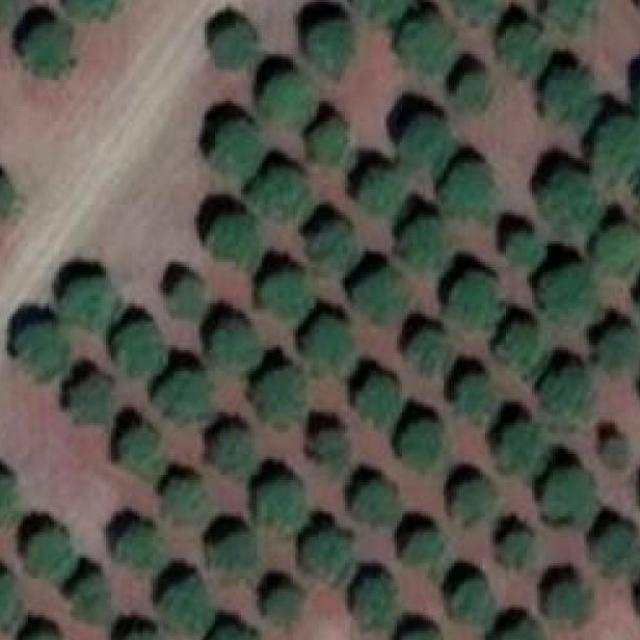Tree: (537, 366, 592, 433), (158, 366, 215, 428), (542, 468, 605, 524), (446, 267, 498, 332), (394, 16, 454, 72), (540, 168, 596, 226), (548, 66, 600, 127), (304, 14, 356, 75), (537, 265, 598, 317), (5, 324, 60, 381), (446, 160, 498, 220), (498, 420, 546, 480), (158, 578, 213, 630), (355, 475, 402, 535), (354, 270, 408, 322), (254, 473, 304, 528), (314, 317, 358, 379), (402, 115, 449, 172), (250, 168, 306, 215), (594, 120, 640, 177), (256, 72, 308, 122), (64, 278, 114, 330), (210, 317, 256, 372), (25, 23, 75, 73), (397, 215, 447, 265), (591, 324, 640, 374), (257, 369, 301, 424), (215, 122, 262, 172), (256, 272, 306, 319), (26, 526, 71, 578), (120, 319, 161, 376), (210, 212, 256, 262), (594, 526, 640, 576), (501, 23, 545, 75), (548, 578, 594, 626), (204, 532, 252, 577), (307, 529, 348, 579), (314, 223, 358, 268), (116, 524, 156, 572), (400, 421, 442, 465), (166, 478, 211, 519), (498, 322, 537, 369), (454, 576, 490, 626), (597, 223, 639, 265), (410, 329, 447, 376), (303, 122, 345, 163), (73, 376, 109, 423), (121, 426, 158, 471), (358, 376, 395, 421), (363, 171, 402, 213), (210, 426, 246, 471), (303, 430, 343, 470), (451, 70, 490, 111), (215, 23, 255, 62), (457, 376, 494, 418), (496, 529, 535, 568), (168, 277, 203, 319), (73, 579, 109, 618), (457, 480, 492, 519), (542, 0, 592, 26), (405, 527, 442, 561), (361, 579, 392, 618), (267, 589, 303, 620), (506, 234, 537, 268), (0, 568, 18, 620), (356, 0, 406, 18), (72, 0, 122, 18), (602, 437, 630, 468), (0, 472, 18, 520), (452, 0, 499, 18), (496, 622, 540, 640), (0, 173, 16, 220), (213, 625, 258, 640), (393, 627, 442, 640), (28, 630, 67, 640), (111, 632, 158, 640), (0, 0, 16, 18), (636, 75, 640, 130), (636, 272, 640, 322)
